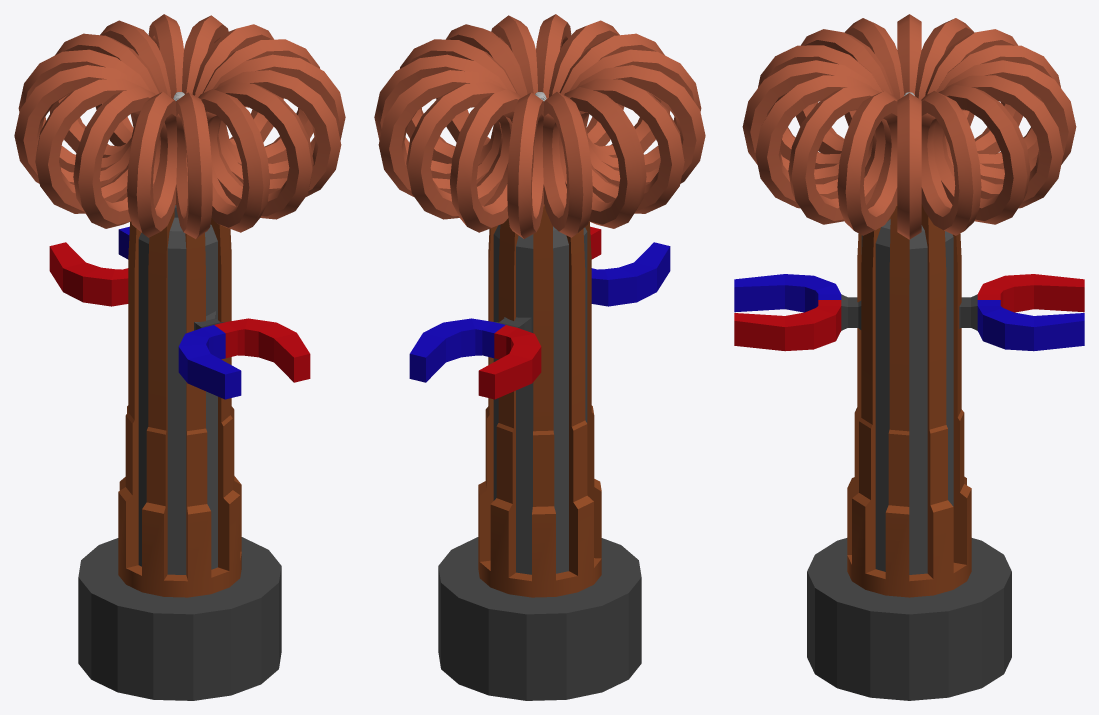
File: MagnetTeslaTower.fbx
3 renders of one model, left to right at view 1: azimuth 30°, elevation 25°; view 2: azimuth 150°, elevation 25°; view 3: azimuth 270°, elevation 25°, orthographic.
Parts seen in each view (by area): view 1: Magnet; view 2: Magnet; view 3: Magnet.
Boxes of the visible parts, x1,y1,x2,y2 form: Magnet: (14, 14, 345, 700); Magnet: (374, 14, 705, 700); Magnet: (734, 14, 1084, 700).
Size of the model in its own units: 129 by 262 by 136.
